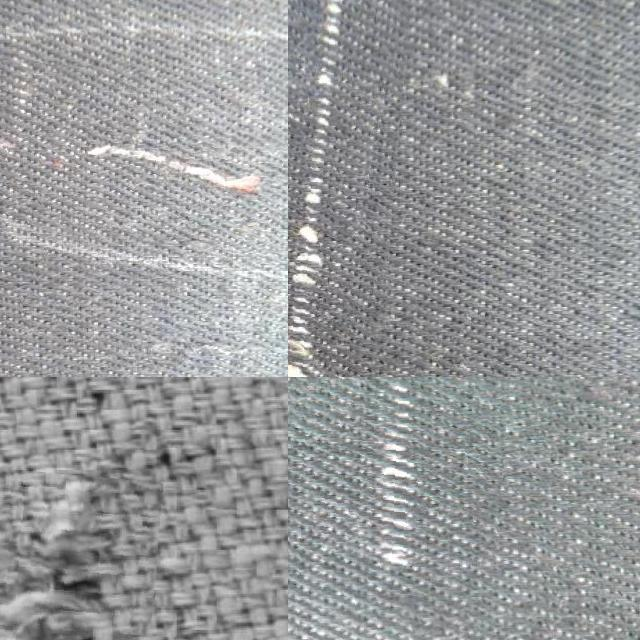Thread_other: (288, 377, 505, 640), (0, 66, 288, 252), (288, 0, 400, 377)
seam: (0, 470, 157, 640)
